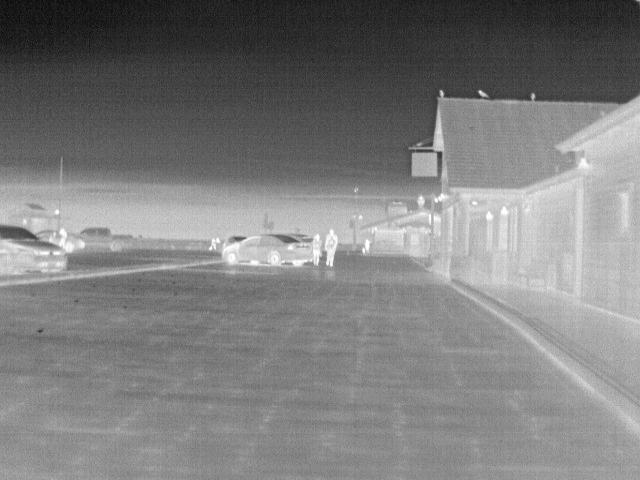car: (0, 224, 70, 277), (219, 234, 317, 268), (74, 226, 135, 252), (36, 229, 86, 253)
person: (321, 227, 339, 264), (312, 230, 324, 266), (56, 229, 69, 249), (363, 236, 371, 254)
